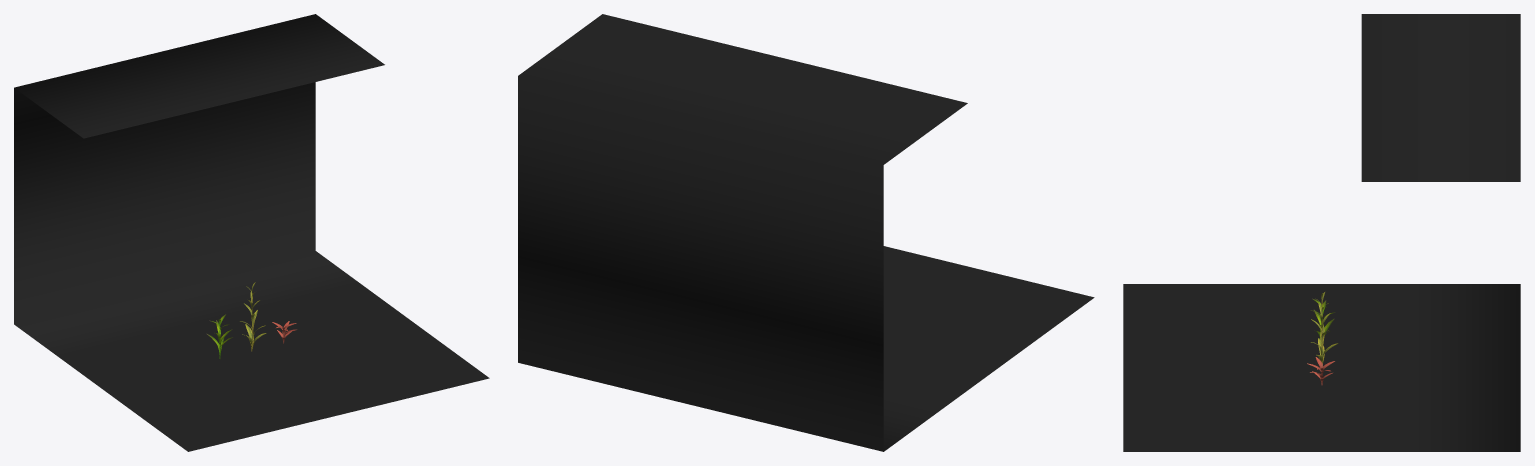
File: plant.fbx
3 views of the same model, side by side, from view 1: azimuth 30°, elevation 25°; view 2: azimuth 150°, elevation 25°; view 3: azimuth 270°, elevation 25° (orthographic). The views are drawn at different scales.
Parts seen in each view (by area): view 1: Plane.003; view 2: Plane.003; view 3: Plane.003, p1.
Boxes of the visible parts, left/top/right/bottom form: Plane.003: left=14, top=14, right=489, bottom=451; Plane.003: left=518, top=14, right=1094, bottom=451; Plane.003: left=1123, top=14, right=1520, bottom=451; p1: left=1310, top=292, right=1338, bottom=363.
Bounding box in the file's own units: 2000 × 1547 × 2000.
4 materials, 3 textured.
